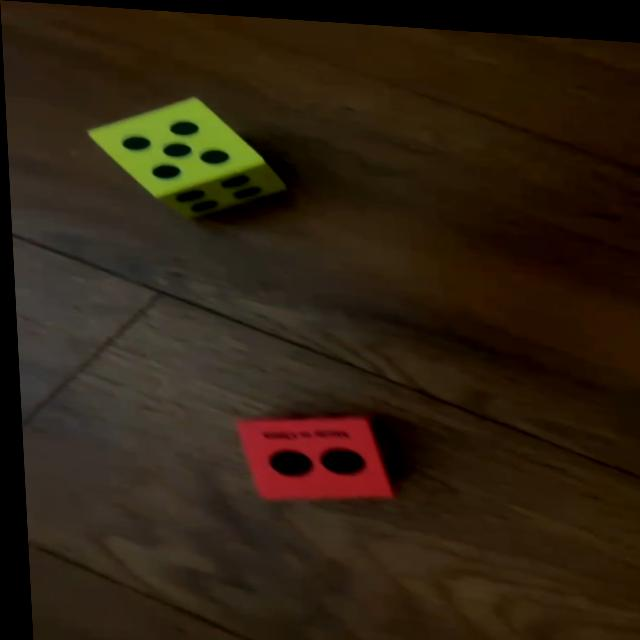red_block: (229, 399, 389, 502)
